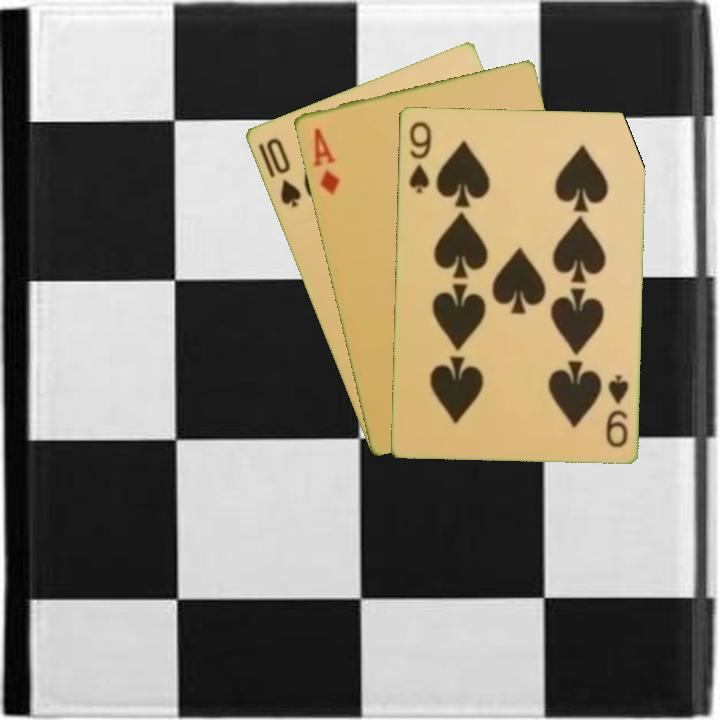10s: (262, 134, 304, 211)
9s: (602, 371, 631, 450), (405, 118, 433, 196)
Ad: (309, 124, 342, 197)
